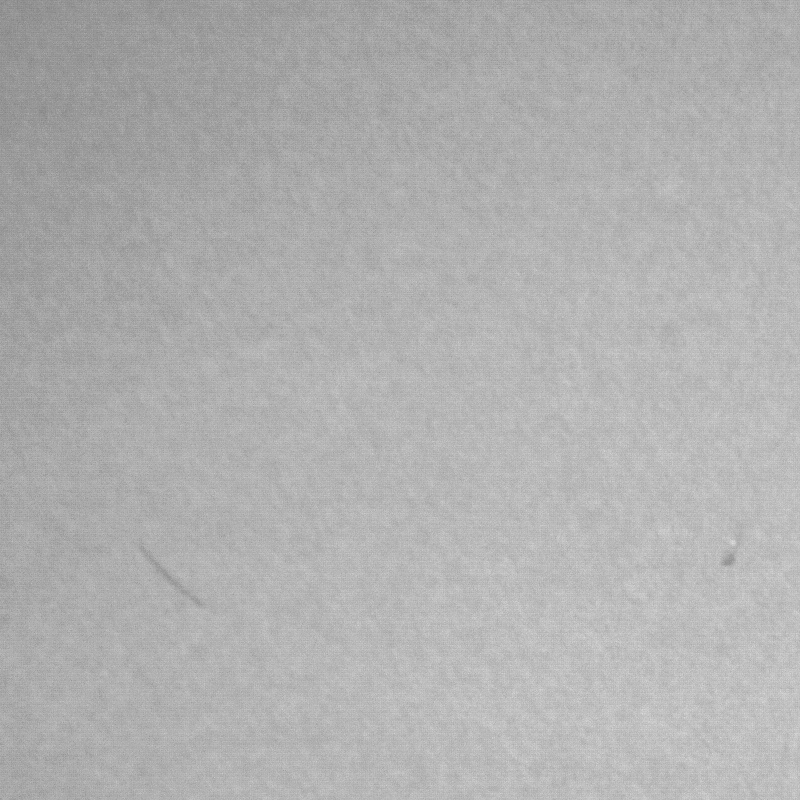defect: (142, 552, 210, 613), (715, 547, 744, 566)
